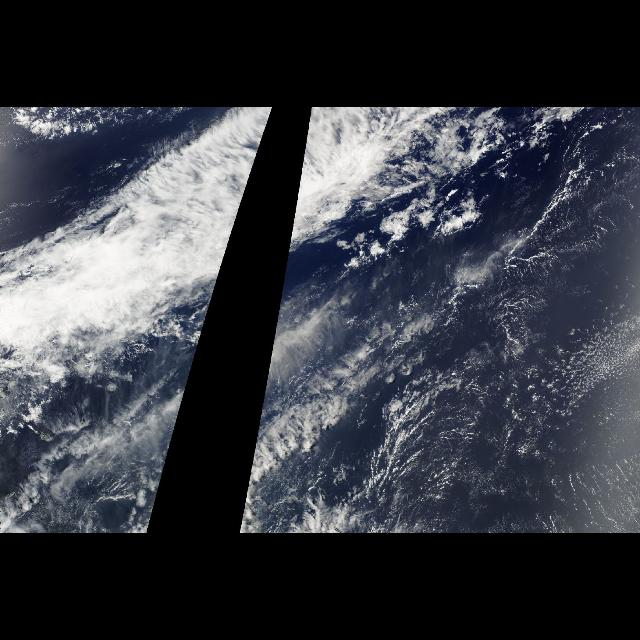Sugar: (365, 180, 639, 530)
